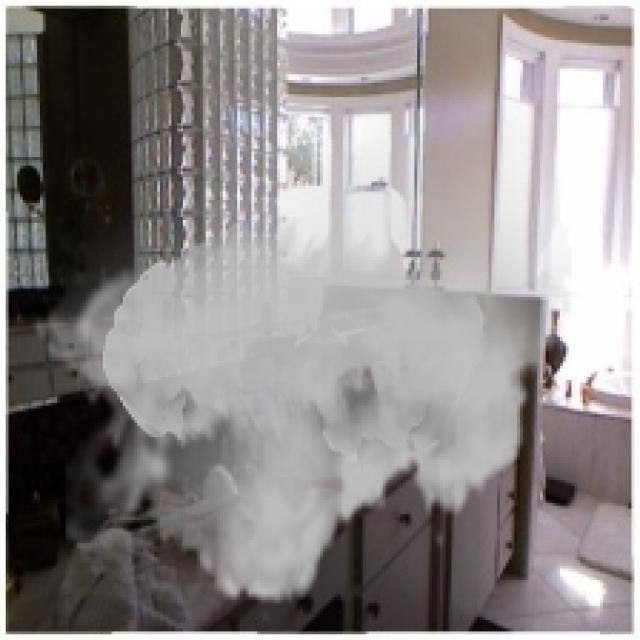smoke: (31, 60, 572, 626)
